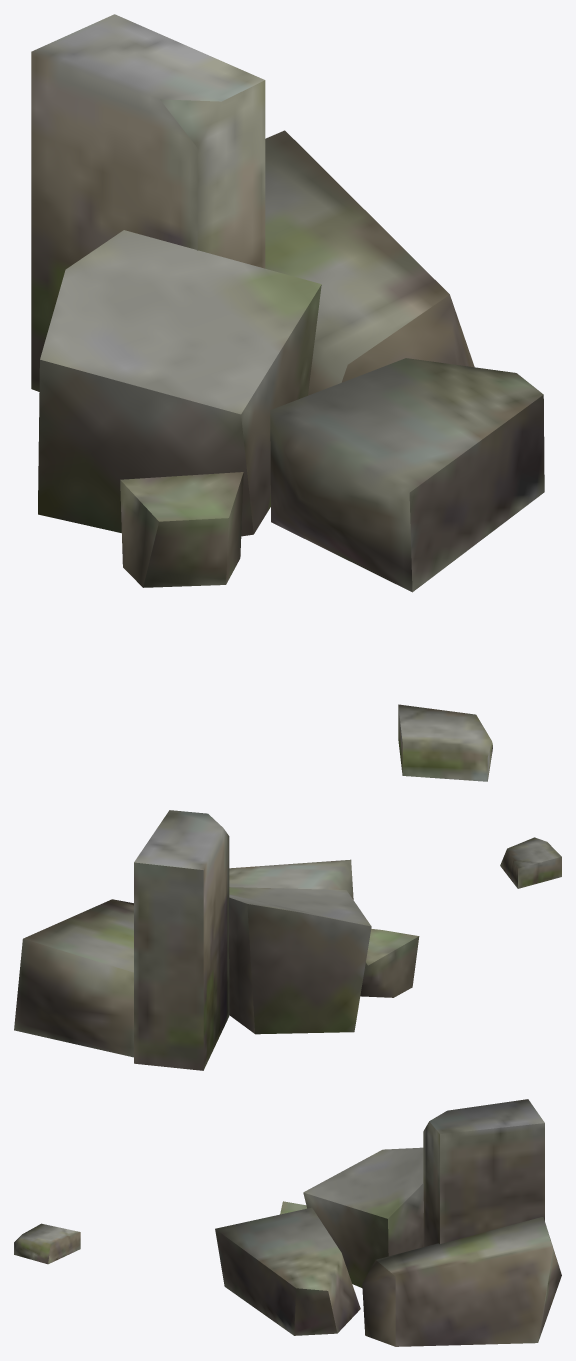
The model's file is h5_zhangpeng_c.FBX.
3 views of the same model, one above another, from view 1: azimuth 30°, elevation 25°; view 2: azimuth 150°, elevation 25°; view 3: azimuth 270°, elevation 25° (orthographic). The views are drawn at different scales.
Parts seen in each view (by area): view 1: h5_zhangpeng_c; view 2: h5_zhangpeng_c; view 3: h5_zhangpeng_c.
Boxes of the visible parts, box(x1,y1,x2,y2) form: h5_zhangpeng_c: box(31, 14, 544, 781); h5_zhangpeng_c: box(14, 810, 561, 1070); h5_zhangpeng_c: box(14, 1099, 561, 1346).
Size of the model in its own units: 3.98 by 2.81 by 8.19.
